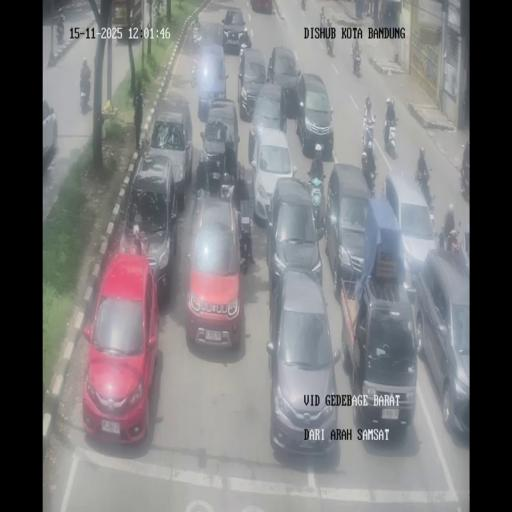car: (82, 249, 160, 443), (267, 270, 339, 458), (343, 266, 419, 440), (415, 250, 469, 442), (185, 192, 246, 352), (381, 169, 437, 287), (326, 163, 372, 293), (250, 124, 297, 228), (146, 100, 192, 206), (295, 72, 333, 158), (197, 43, 228, 121), (268, 46, 300, 113), (237, 46, 266, 119), (222, 7, 250, 54), (42, 99, 58, 169), (198, 21, 224, 54)
motorcycle: (195, 144, 231, 197), (307, 167, 327, 234), (361, 150, 378, 195), (415, 166, 434, 206), (238, 223, 254, 268), (383, 116, 398, 156), (79, 65, 92, 110), (361, 113, 376, 151), (460, 157, 470, 202), (445, 228, 460, 253), (190, 53, 200, 88), (190, 28, 202, 54), (352, 48, 362, 76), (428, 204, 436, 233), (53, 7, 66, 24), (326, 32, 335, 56), (56, 20, 64, 44), (362, 0, 369, 17), (319, 11, 326, 27), (326, 14, 332, 27), (301, 0, 306, 10)
truck: (109, 0, 142, 42)
